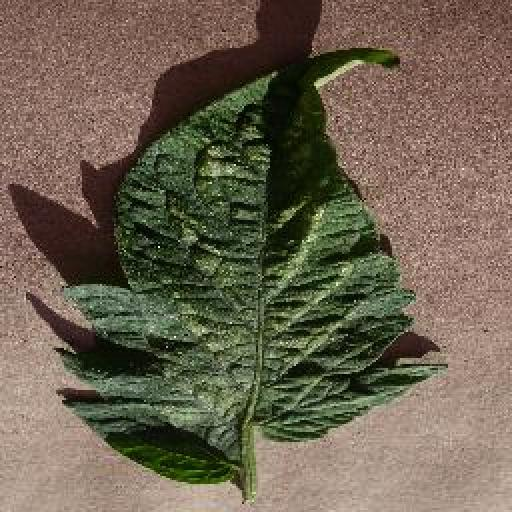disease_tomato: (62, 44, 448, 482)
